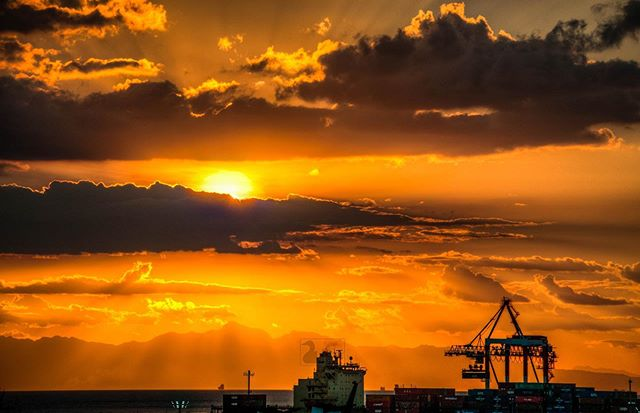building: (290, 345, 365, 413)
crane: (448, 304, 567, 413)
sky: (1, 1, 624, 381)
sun: (196, 161, 263, 215)
